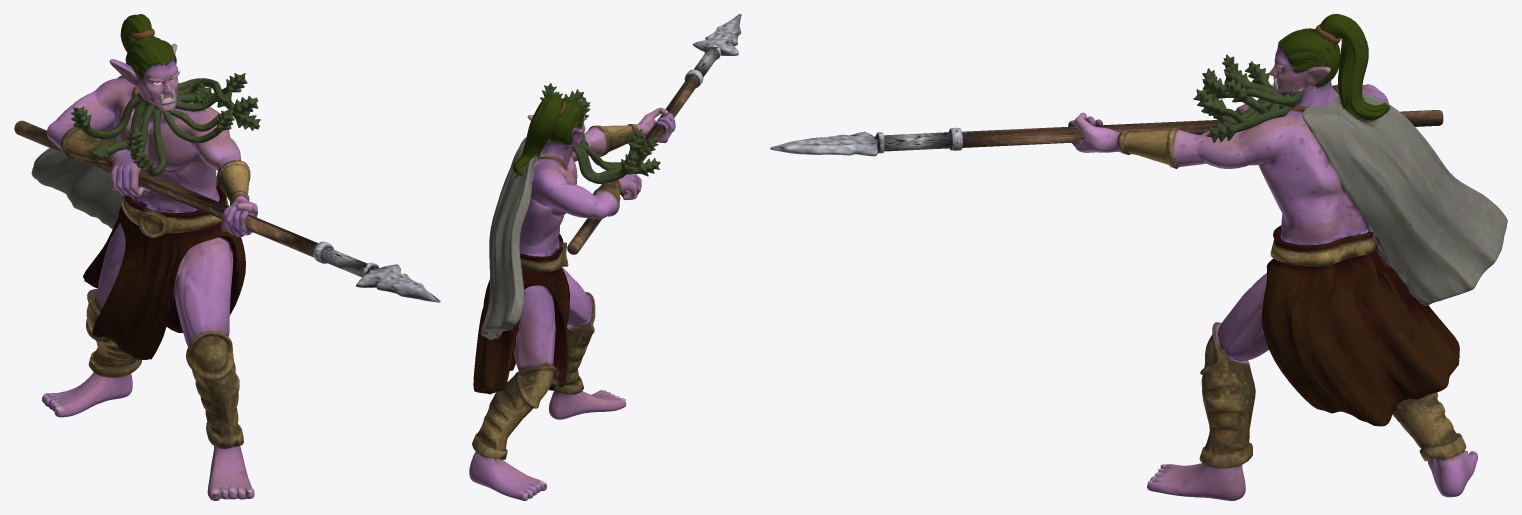
The model's file is MZ4250 - Bearded Devil.glb.
The picture shows the model from 3 angles, left to right: view 1: azimuth 30°, elevation 25°; view 2: azimuth 150°, elevation 25°; view 3: azimuth 270°, elevation 25°; orthographic projection. The views are drawn at different scales.
Parts seen in each view (by area): view 1: default; view 2: default; view 3: default.
Part boxes in pixels (left/top/right/bottom): default: left=14, top=14, right=440, bottom=500; default: left=469, top=14, right=741, bottom=500; default: left=770, top=14, right=1507, bottom=500.
Bounding box in the file's own units: 0.4559 × 1.07 × 1.56.
Materials: 1 (1 with a texture image).
